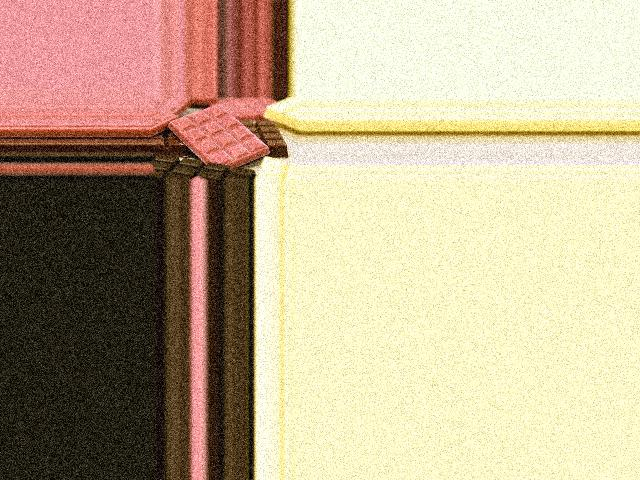chocolate: (167, 101, 267, 180)
